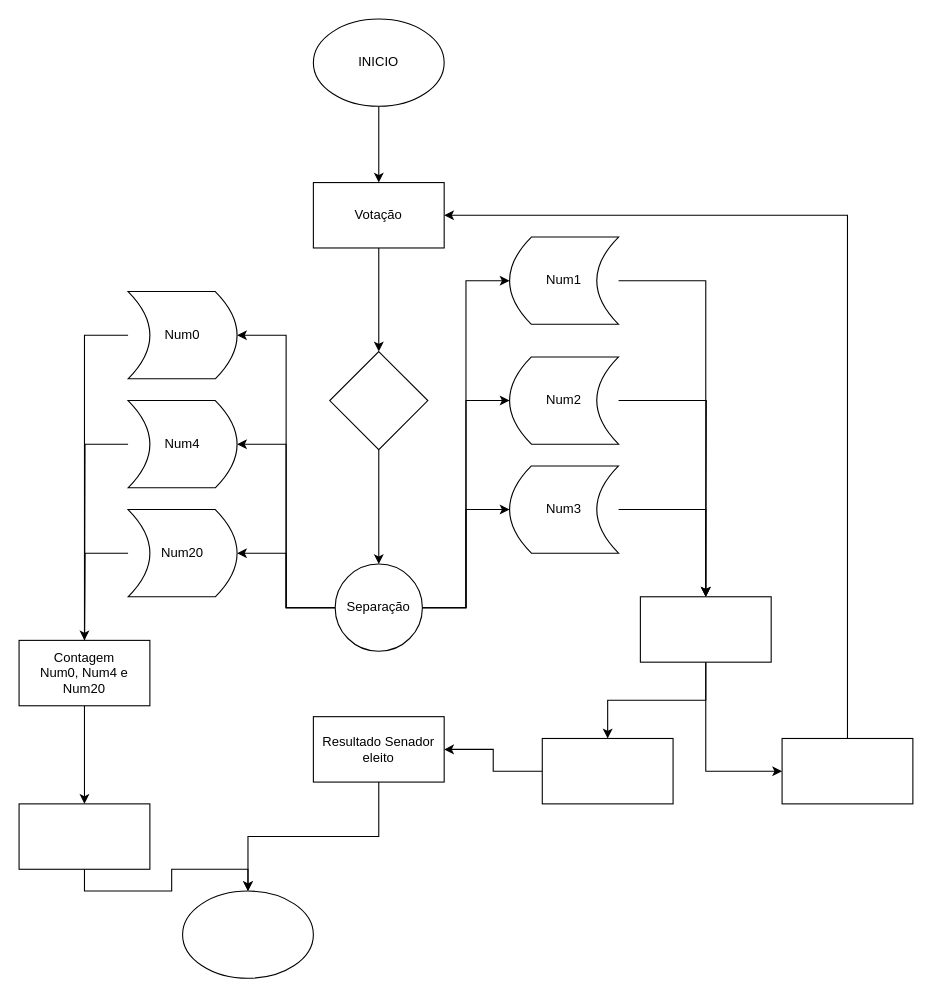
Some shapes in this 932 by 997 pixel diagram are drawn without their labels. Here are the shapes that lost their labels. From the top down, the box of each, then its label:
(329, 350, 428, 450): Identificar Votos
(639, 596, 771, 662): Contagem Num1, Num2 e Num3.
(541, 737, 673, 804): Sem empate
(781, 737, 913, 804): Se tiver empate
(18, 803, 150, 869): Resultado Num0,Num4 e Num20
(181, 890, 313, 978): FIM
